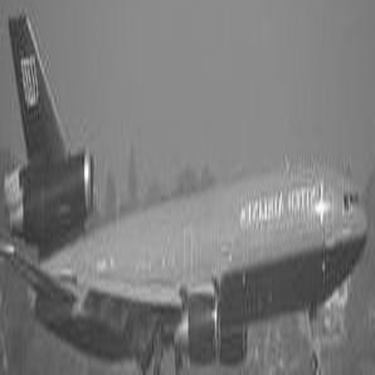airplane: (4, 1, 370, 371)
